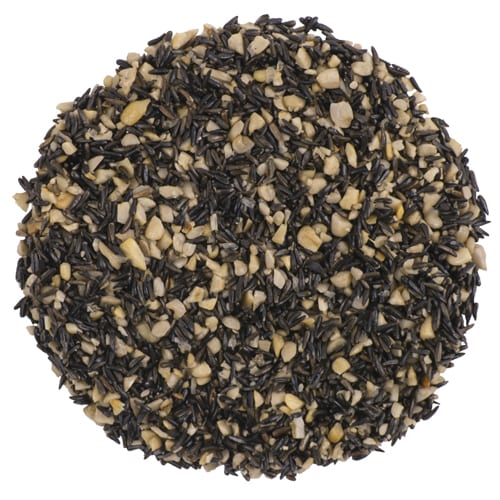seed: (6, 13, 496, 491)
